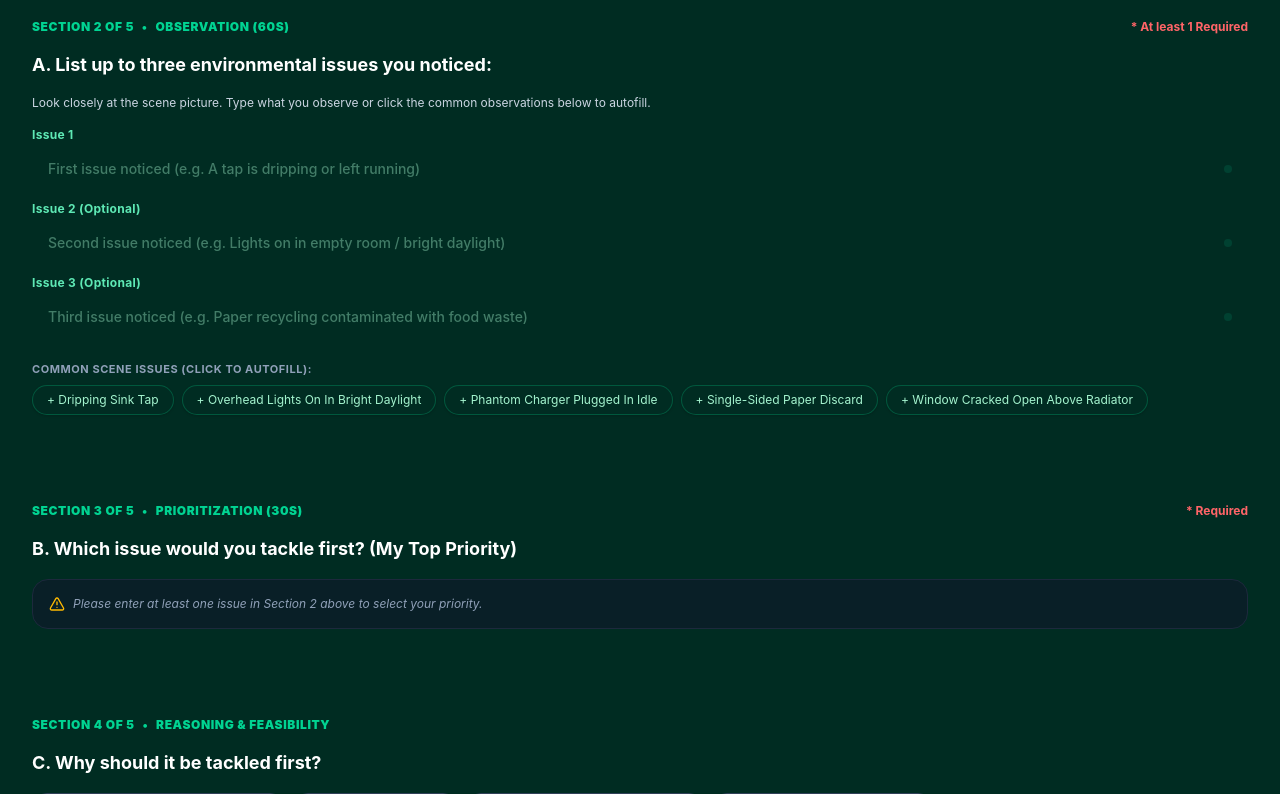
Scenario: 2. Button States & Micro-Interactions Suite › Form Submission Button Disabled Gate › enables submit button as soon as at least one issue is provided
The width and height of the screenshot is (1280, 794).
(page scrolled)
# Autofill via preset pill
Click the button "+ Dripping Sink Tap" at (103, 400), box x1=32 y1=385 x2=174 y2=415
(page scrolled)
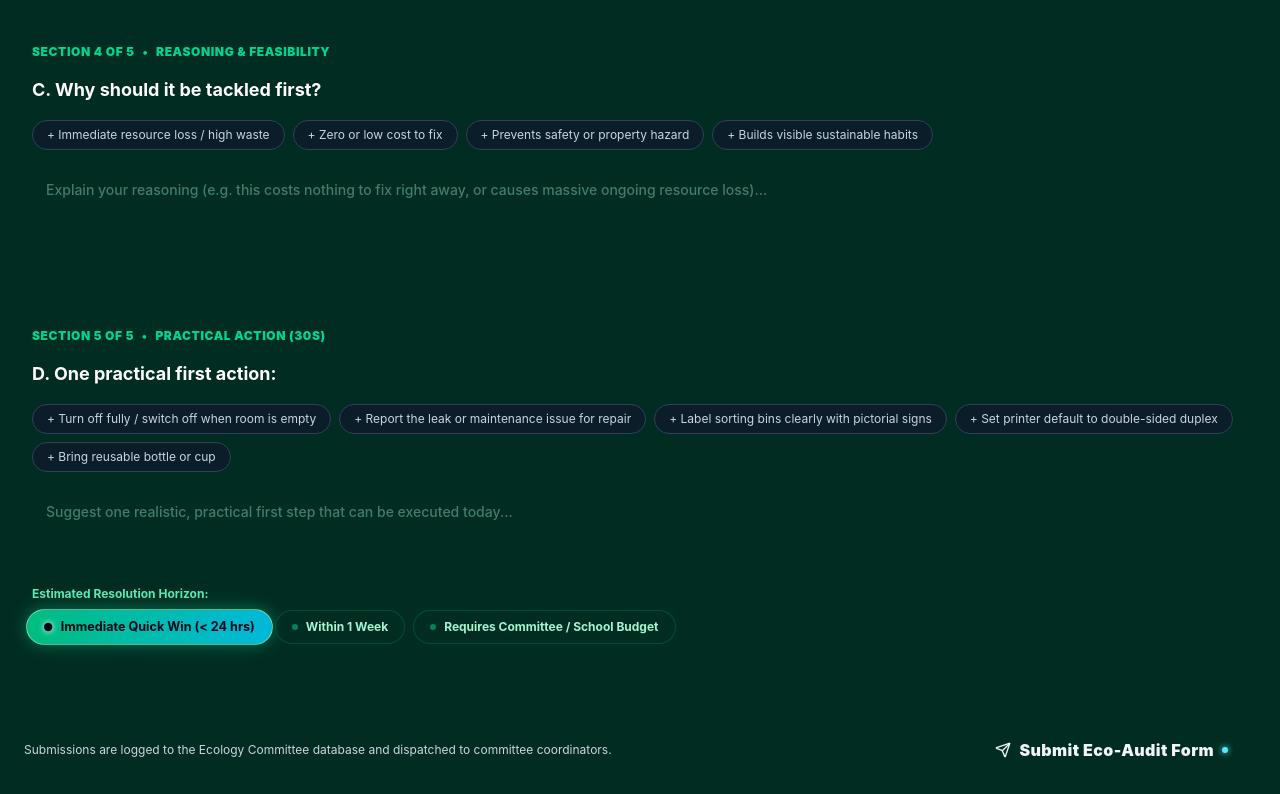
expect the button "Submit Eco-Audit Form" is enabled: met, box x1=968 y1=724 x2=1256 y2=776
